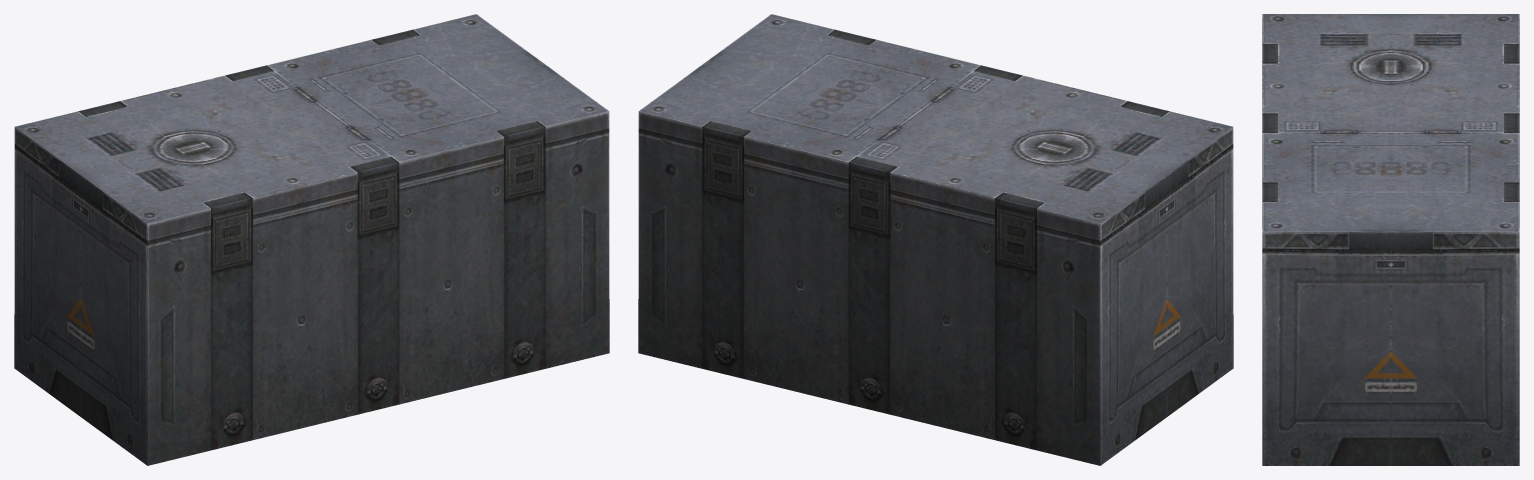
File: Vehicle_Box004.glb
3 views of the same model, side by side, from view 1: azimuth 30°, elevation 25°; view 2: azimuth 150°, elevation 25°; view 3: azimuth 270°, elevation 25° (orthographic). The views are drawn at different scales.
Parts seen in each view (by area): view 1: tianwang_box004; view 2: tianwang_box004; view 3: tianwang_box004.
Boxes of the visible parts, x1,y1,x2,y2 form: tianwang_box004: (14,14,609,465); tianwang_box004: (638,14,1233,465); tianwang_box004: (1262,14,1519,465).
Size of the model in its own units: 2.19 by 1.1 by 1.1.
1 material, 1 textured.
